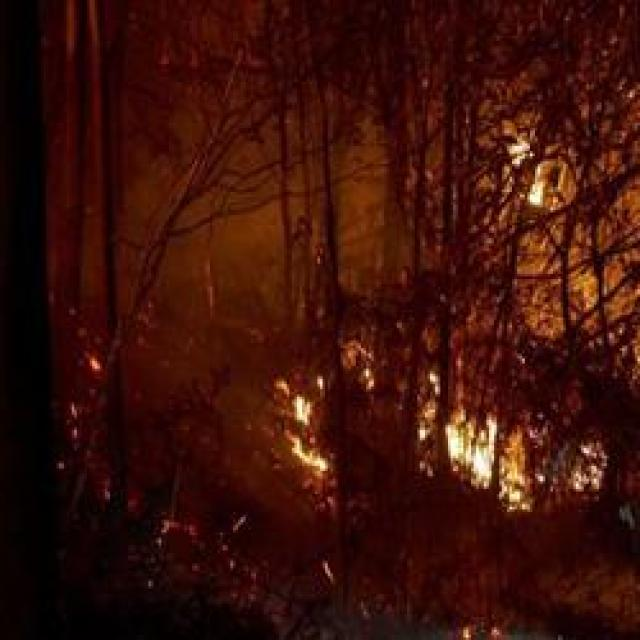fire: (450, 416, 506, 478), (293, 396, 321, 470), (501, 110, 533, 174), (536, 147, 568, 210), (510, 426, 532, 496), (570, 431, 598, 483)
smoke: (210, 136, 352, 300), (64, 146, 170, 314), (524, 204, 620, 330), (159, 356, 257, 458), (384, 37, 438, 155)
